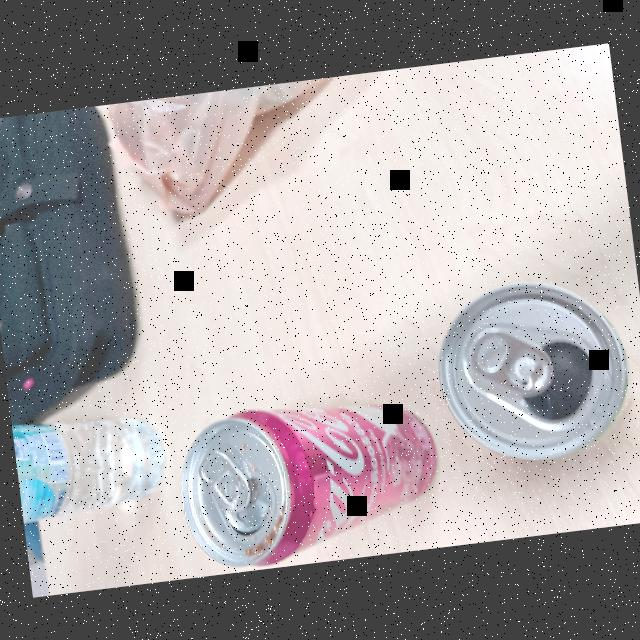can: (160, 361, 456, 578), (412, 266, 634, 486)
